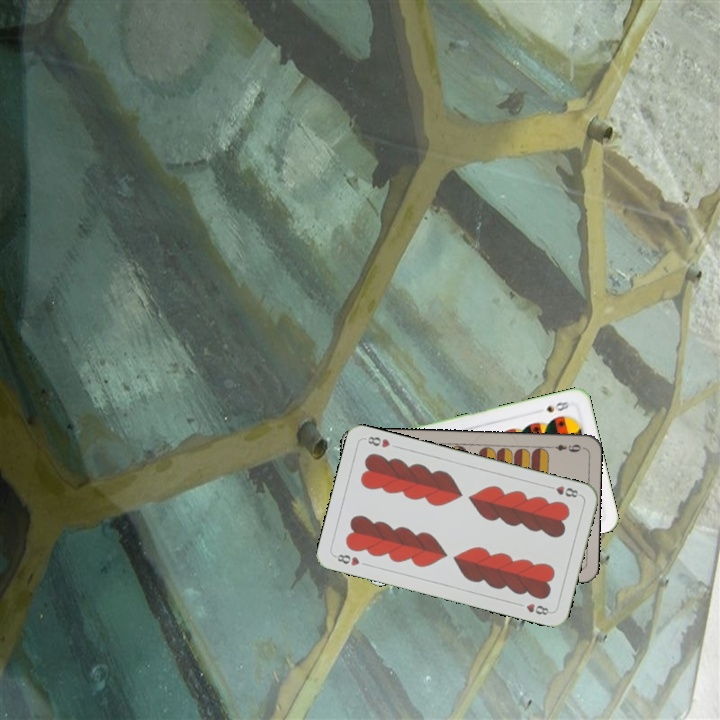E9: (545, 440, 585, 455)
H8: (543, 482, 583, 500), (330, 550, 362, 569)
S8: (542, 397, 571, 415)
